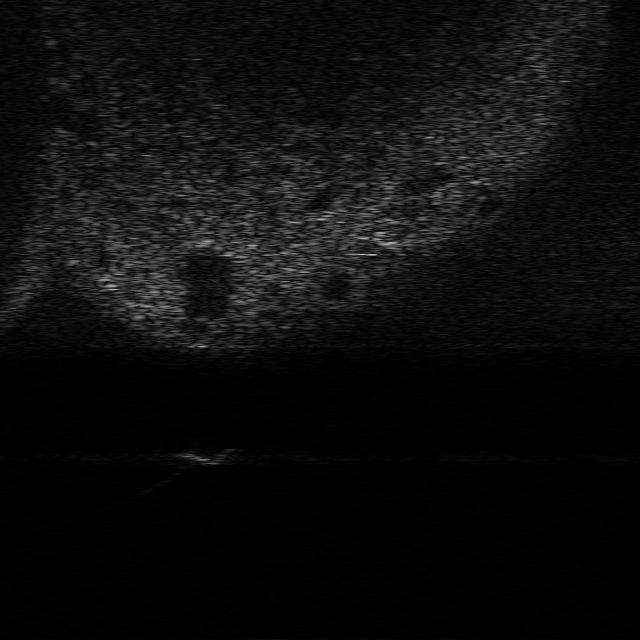cube: (176, 443, 236, 467)
